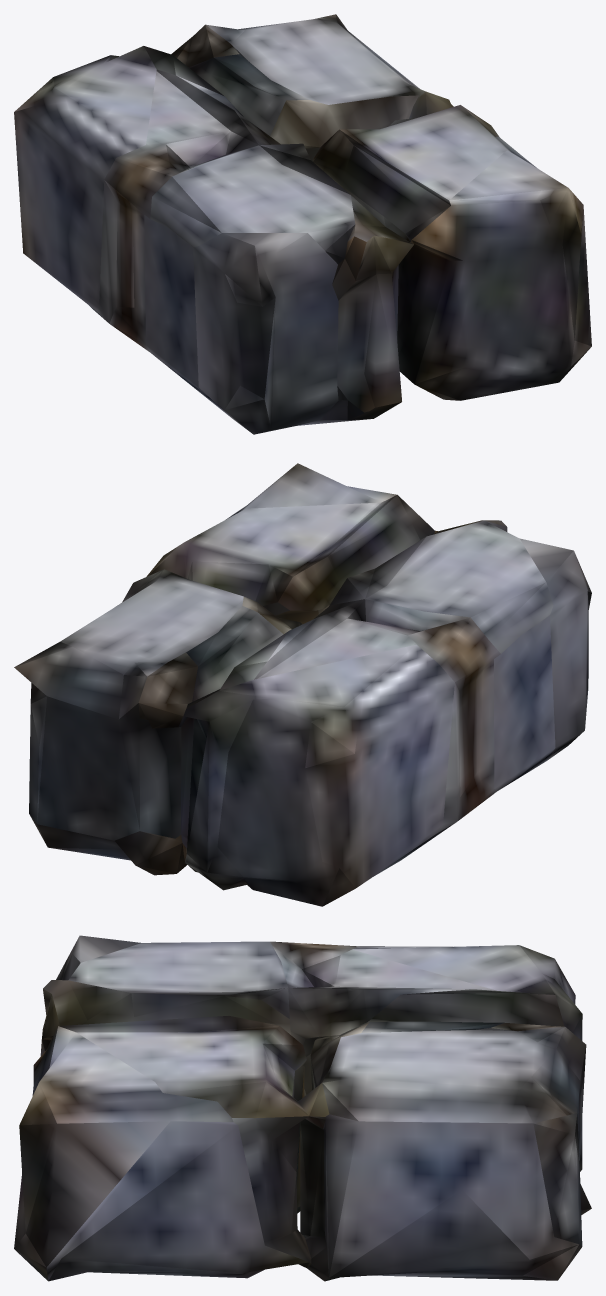
File: crate_c.glb
3 renders of one model, top to bottom at view 1: azimuth 30°, elevation 25°; view 2: azimuth 150°, elevation 25°; view 3: azimuth 270°, elevation 25°, orthographic. The views are drawn at different scales.
Visible parts, largest first — view 1: crate_c; view 2: crate_c; view 3: crate_c.
Boxes of the visible parts, x1,y1,x2,y2 form: crate_c: (14, 14, 591, 434); crate_c: (14, 463, 591, 906); crate_c: (14, 935, 591, 1281).
Size of the model in its own units: 0.1101 by 0.063 by 0.1563.
1 material, 1 textured.
